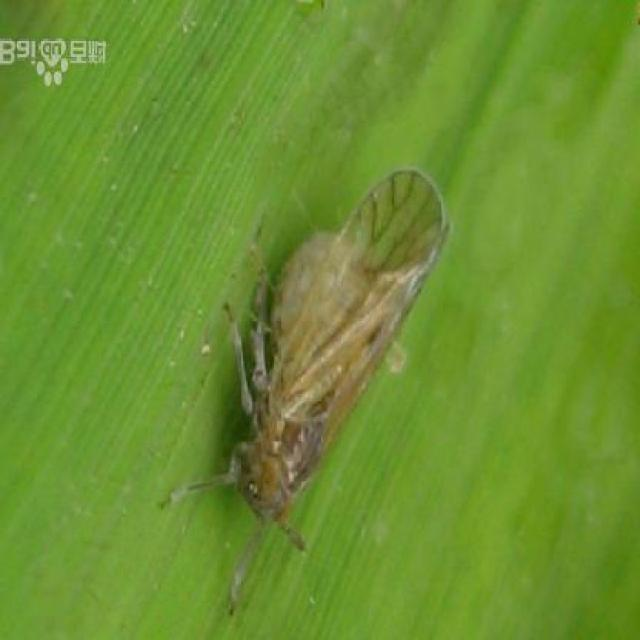brown-planthopper: (194, 155, 463, 562)
